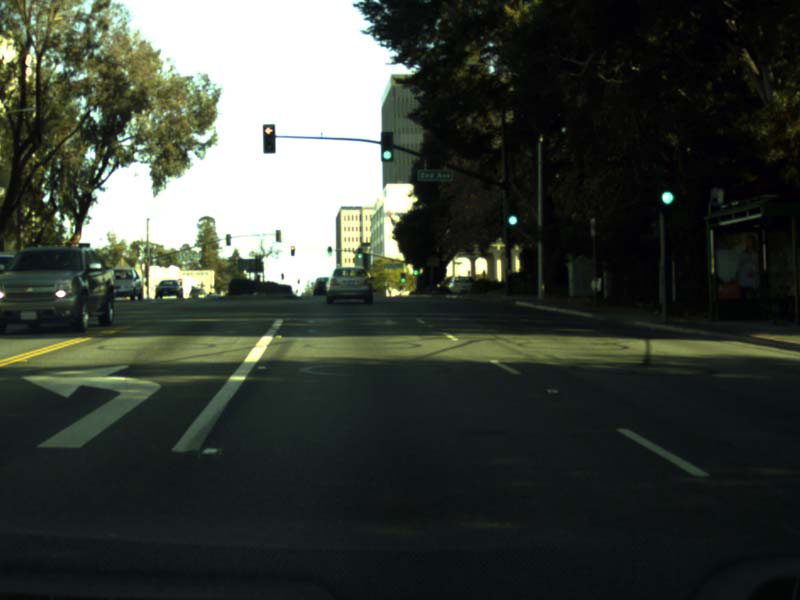Green: (658, 167, 675, 206), (382, 131, 393, 160), (507, 198, 517, 226), (414, 262, 418, 275), (357, 248, 362, 258), (400, 273, 405, 282), (327, 246, 331, 255)
Red: (263, 124, 274, 152), (291, 245, 294, 255)
